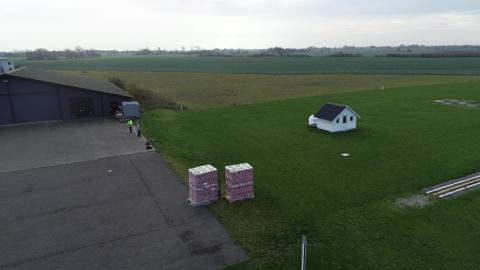RockwoolPallet: (225, 159, 253, 200)
